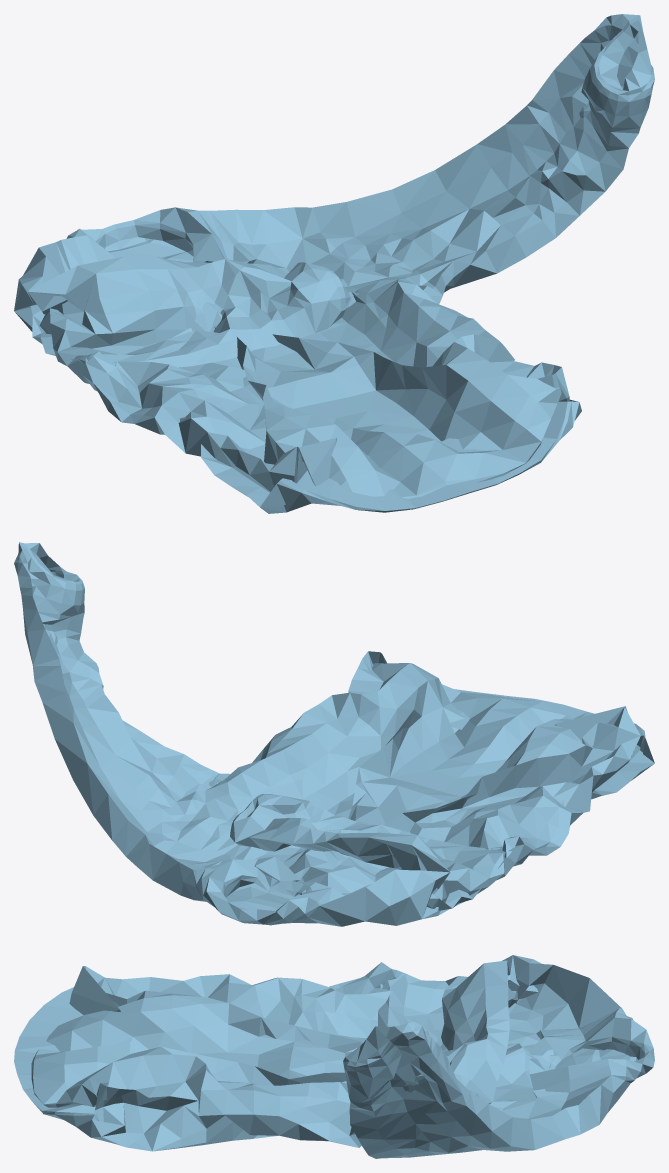
The model's file is frame_04.glb.
The picture shows the model from 3 angles, top to bottom: view 1: azimuth 30°, elevation 25°; view 2: azimuth 150°, elevation 25°; view 3: azimuth 270°, elevation 25°; orthographic projection. The views are drawn at different scales.
Visible parts, largest first — view 1: frame_04.obj; view 2: frame_04.obj; view 3: frame_04.obj.
Boxes of the visible parts, left/top/right/bottom form: frame_04.obj: left=14, top=14, right=654, bottom=513; frame_04.obj: left=14, top=542, right=654, bottom=926; frame_04.obj: left=14, top=955, right=654, bottom=1158.
Bounding box in the file's own units: 1.49 × 0.6609 × 1.59.
